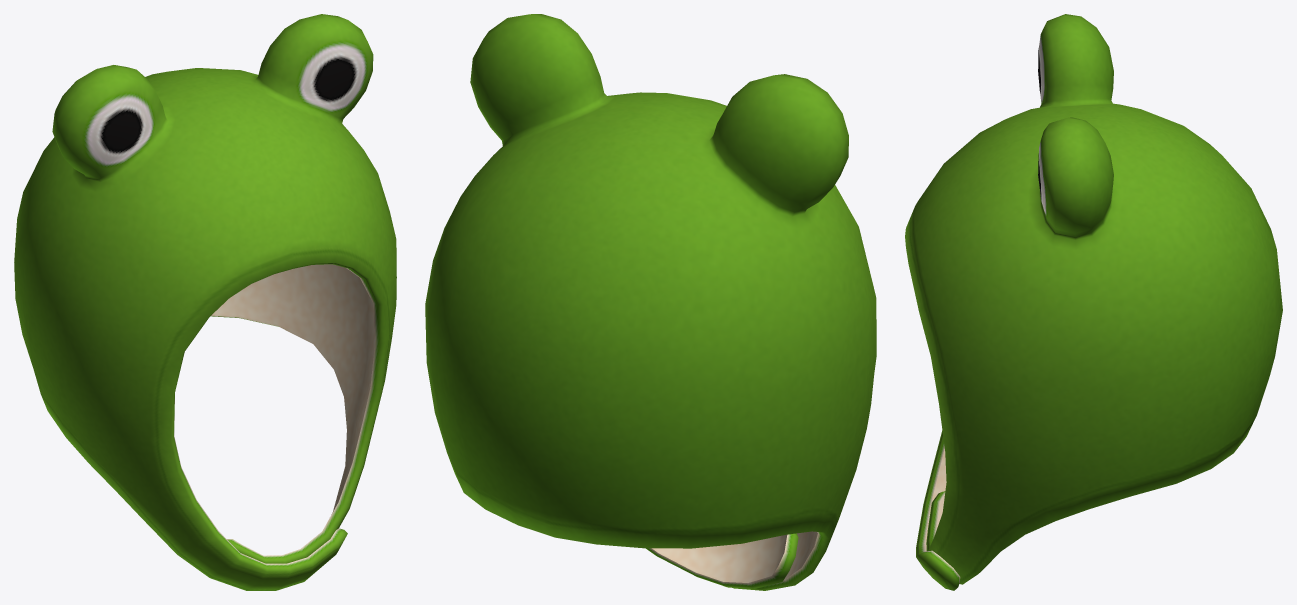
3 renders of one model, left to right at view 1: azimuth 30°, elevation 25°; view 2: azimuth 150°, elevation 25°; view 3: azimuth 270°, elevation 25°, orthographic. The views are drawn at different scales.
Visible parts, largest first — view 1: model_18; view 2: model_18; view 3: model_18.
Part boxes in pixels (x1,y1,x2,y2): model_18: (14, 14, 396, 590); model_18: (425, 14, 876, 590); model_18: (905, 14, 1282, 590).
Bounding box in the file's own units: 0.9128 × 1.33 × 0.903.
1 material, 1 textured.
